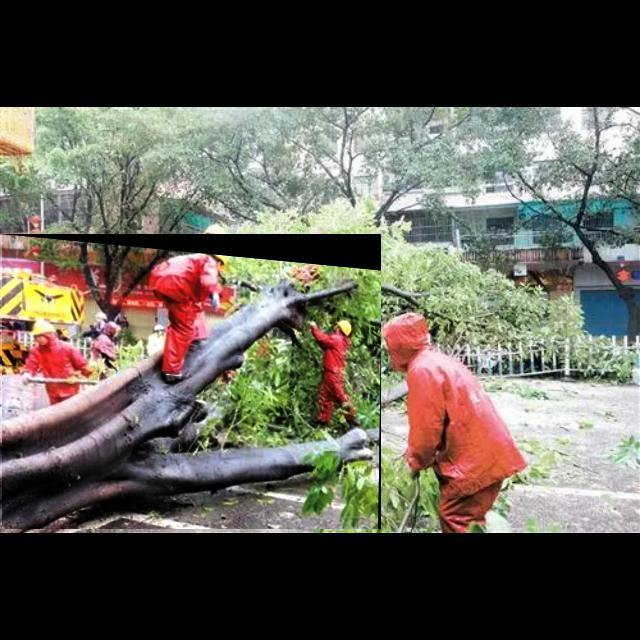fallen_tree: (2, 234, 382, 530)
